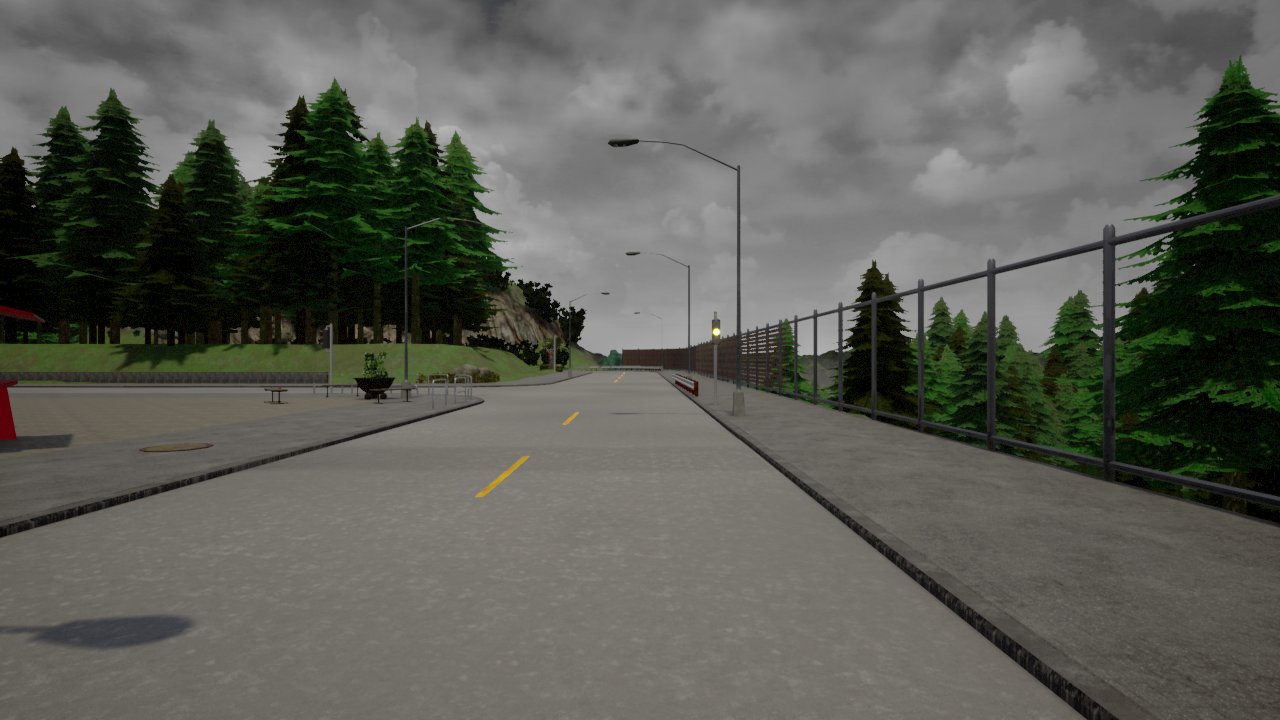yellow: (710, 317, 721, 346)
